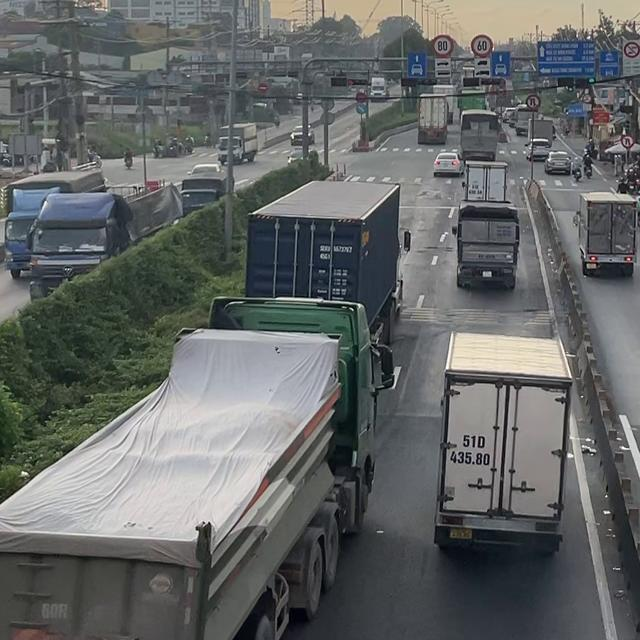car: (432, 151, 464, 176), (544, 150, 571, 174), (524, 138, 551, 161), (289, 124, 314, 145), (286, 147, 315, 164), (187, 163, 221, 175), (501, 107, 515, 123)
motorcycle: (582, 160, 593, 177), (570, 166, 582, 181)
truck: (0, 295, 393, 639), (433, 330, 573, 555), (244, 179, 410, 345), (26, 181, 183, 302), (2, 169, 107, 275), (453, 200, 520, 289), (573, 191, 638, 277), (452, 161, 508, 235), (181, 175, 231, 217), (460, 109, 499, 162), (461, 161, 508, 201), (216, 122, 257, 164), (417, 93, 448, 144), (432, 84, 456, 124), (528, 118, 554, 149), (515, 105, 539, 136), (457, 89, 487, 110), (369, 76, 389, 100)
